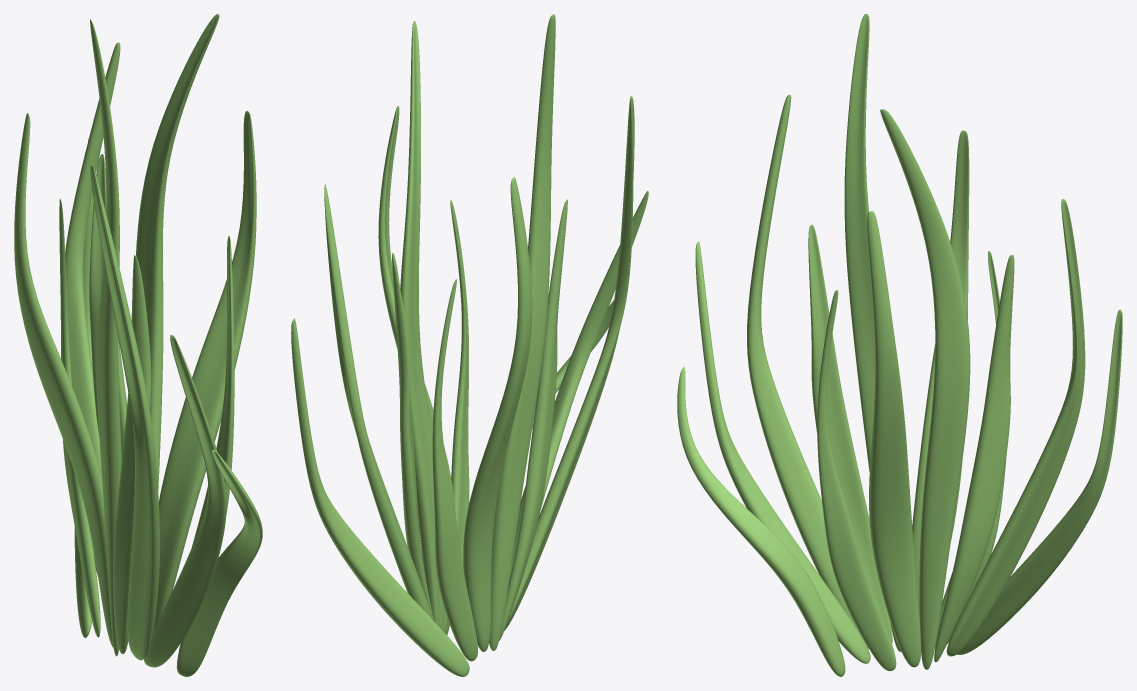
File: Grass.fbx
3 views of the same model, side by side, from view 1: azimuth 30°, elevation 25°; view 2: azimuth 150°, elevation 25°; view 3: azimuth 270°, elevation 25° (orthographic). The views are drawn at different scales.
Visible parts, largest first — view 1: Cube.005; view 2: Cube.005; view 3: Cube.005.
Boxes of the visible parts, bbox=[...] form: Cube.005: bbox=[14, 14, 262, 676]; Cube.005: bbox=[291, 14, 648, 676]; Cube.005: bbox=[677, 14, 1122, 676].
Bounding box in the file's own units: 363 × 1088 × 704.
